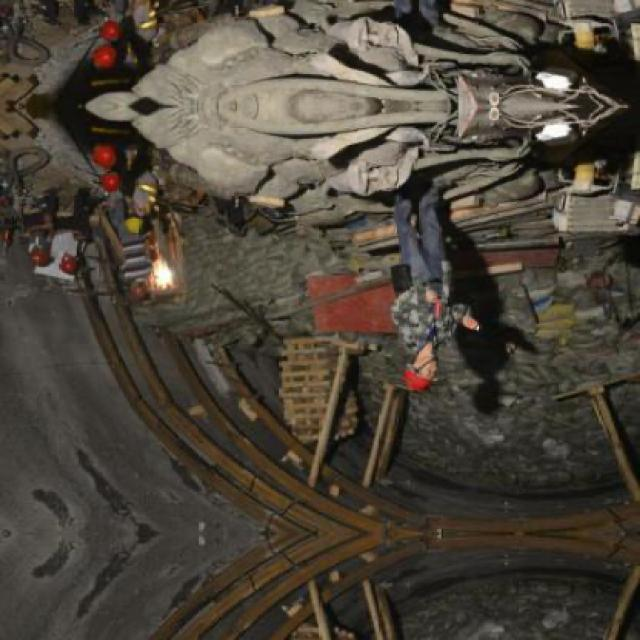con casco: (384, 335, 454, 402)
